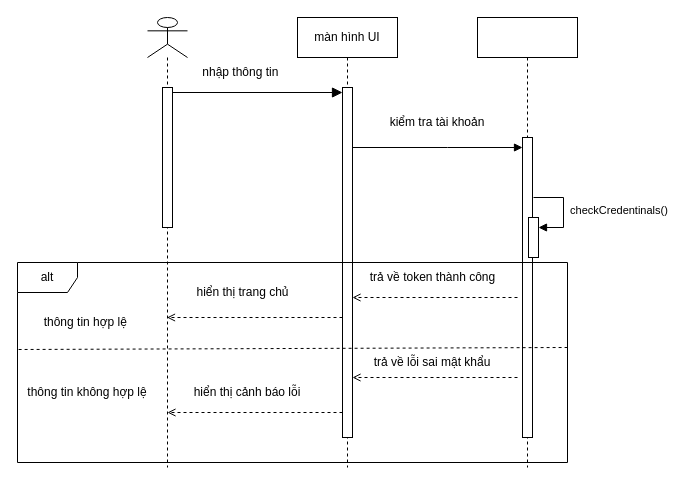
Image size: 686x485. Some labels were removed from this diagram. Each missing label, with the centre of its shape:
"AuthServer" belongs at (x=527, y=242).
"khách hàng" belongs at (x=167, y=242).
